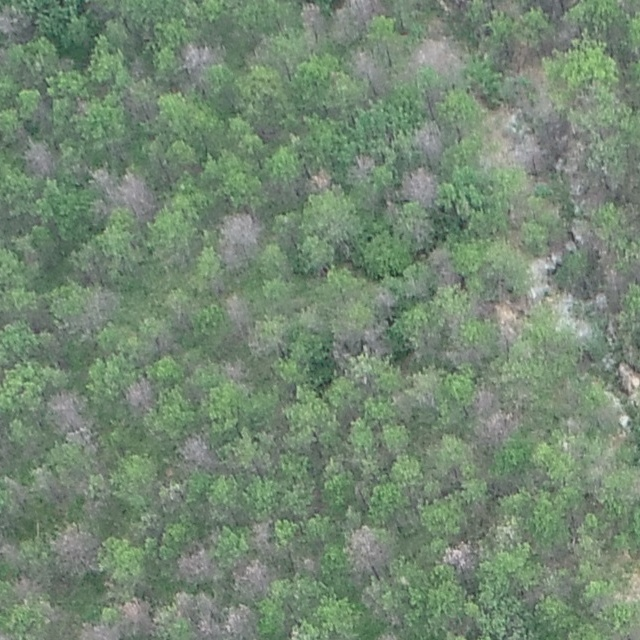unhealthy: (470, 388, 520, 446), (214, 209, 262, 267), (51, 521, 100, 574), (490, 131, 549, 172), (344, 524, 390, 576), (412, 34, 466, 77), (35, 466, 86, 510), (113, 168, 157, 219), (44, 390, 91, 437), (564, 169, 607, 214), (77, 285, 118, 330), (397, 166, 442, 206), (350, 47, 389, 93), (332, 0, 384, 34), (491, 293, 523, 346), (550, 121, 585, 169), (231, 557, 273, 597), (173, 545, 217, 583), (177, 432, 218, 468), (506, 38, 542, 77), (426, 246, 461, 286), (178, 41, 221, 72), (121, 88, 159, 123), (411, 120, 444, 160), (223, 602, 259, 637), (118, 594, 153, 630), (124, 374, 156, 413), (23, 140, 57, 176), (222, 292, 252, 332), (441, 540, 478, 572), (597, 263, 630, 297), (445, 342, 487, 368), (359, 323, 392, 356), (0, 4, 30, 40), (298, 0, 325, 39), (10, 572, 45, 599), (3, 475, 31, 508), (172, 589, 203, 618), (346, 153, 377, 182), (88, 167, 115, 200), (77, 620, 122, 639), (249, 518, 274, 550), (221, 356, 250, 383), (151, 329, 180, 354), (0, 536, 22, 567), (39, 601, 69, 623), (306, 168, 333, 192), (373, 285, 398, 310), (195, 616, 220, 638), (127, 57, 149, 79), (425, 15, 446, 37), (615, 621, 639, 639), (562, 414, 582, 434), (297, 555, 319, 573), (373, 631, 403, 640), (0, 628, 18, 639)
